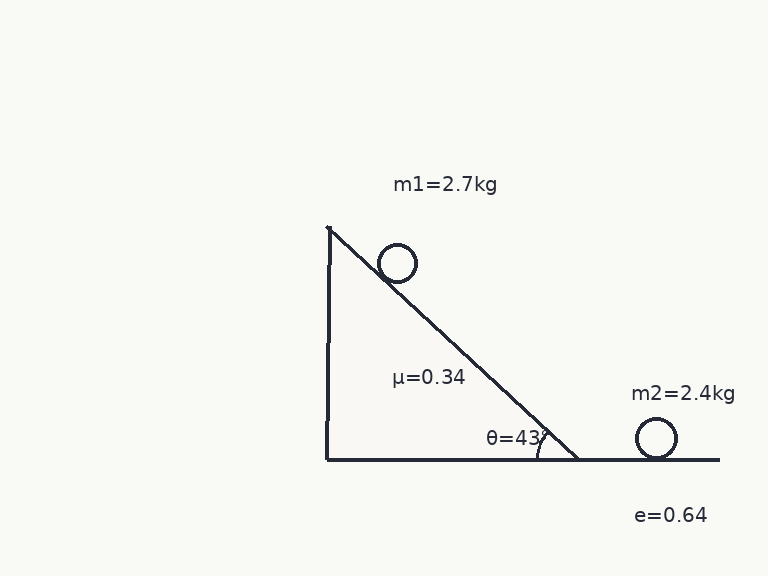ball: (633, 415, 679, 461), (375, 241, 419, 285)
ramp: (325, 224, 579, 461)
